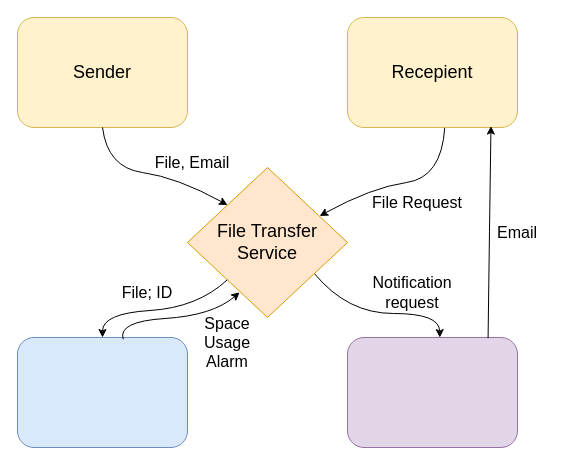
Image size: 565x465. Some labels were removed from this diagram. Here are the shapes that lost their labels. From the top down, the centre of each, then its label:
the point at 102,392: Cloud(FileStorage)
the point at 432,392: Email Service
